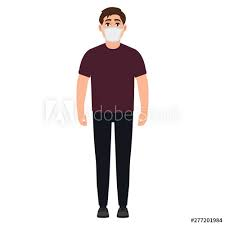masked: (93, 6, 129, 41)
